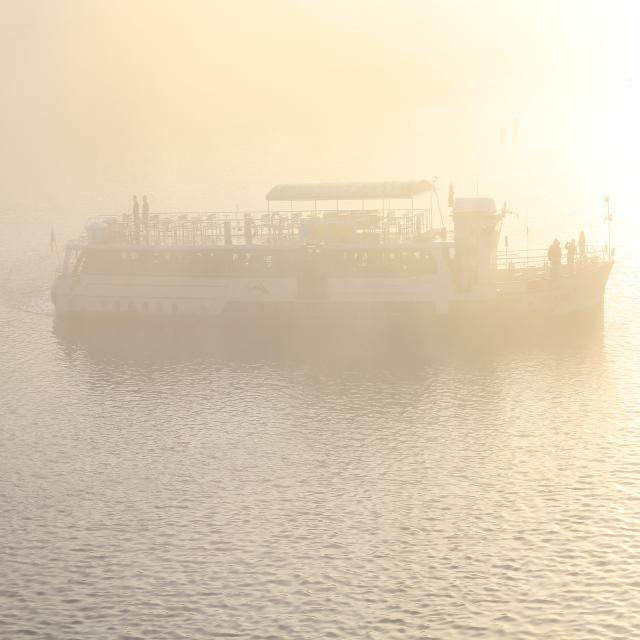fishing boat: (54, 160, 619, 346)
